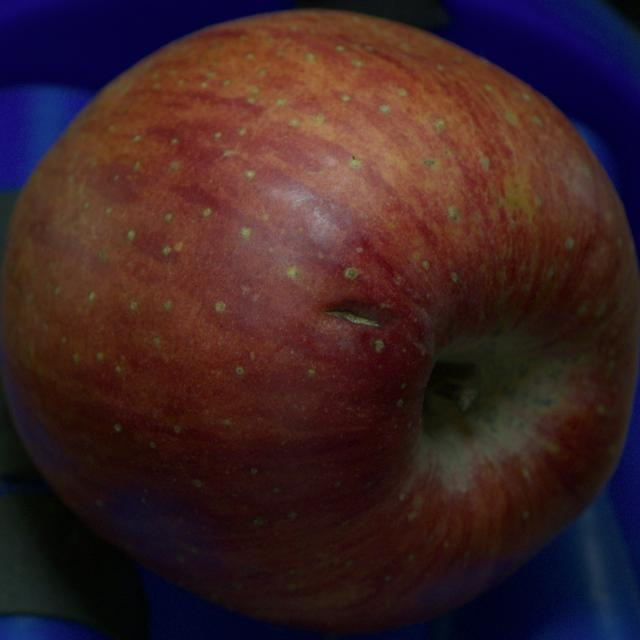apple: (0, 11, 639, 632)
bruise: (319, 301, 404, 324)
scratch: (326, 311, 379, 326)
